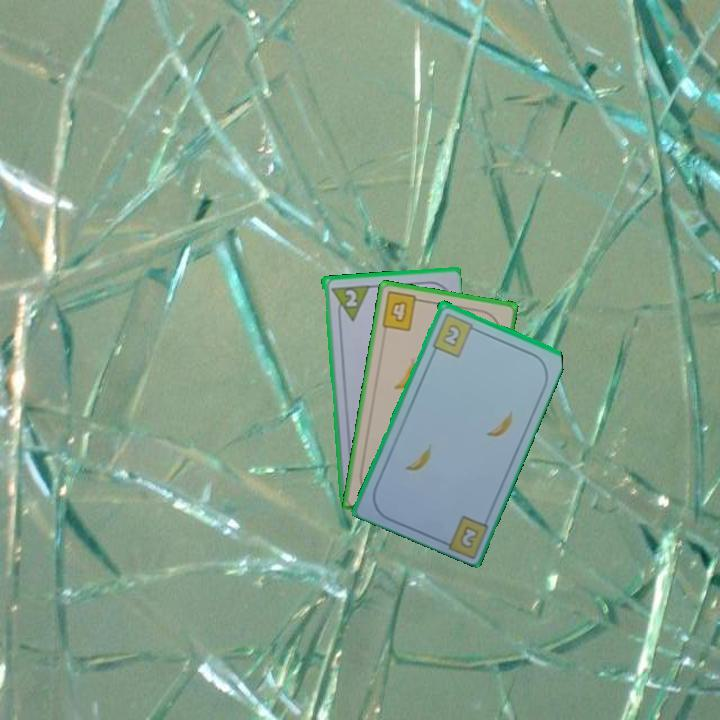2b: (428, 309, 481, 360), (456, 522, 481, 551)
2p: (341, 286, 359, 309)
4b: (378, 288, 426, 334)
